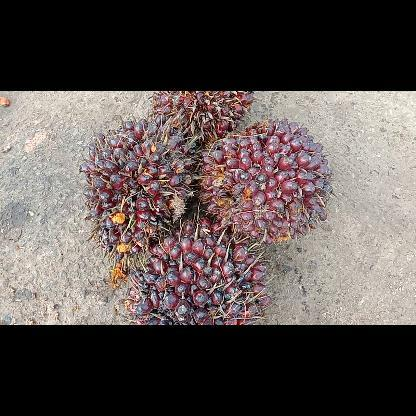Kurang masak: (76, 113, 196, 263), (128, 210, 272, 324), (147, 92, 261, 142)
TBS masak: (197, 114, 338, 248)
